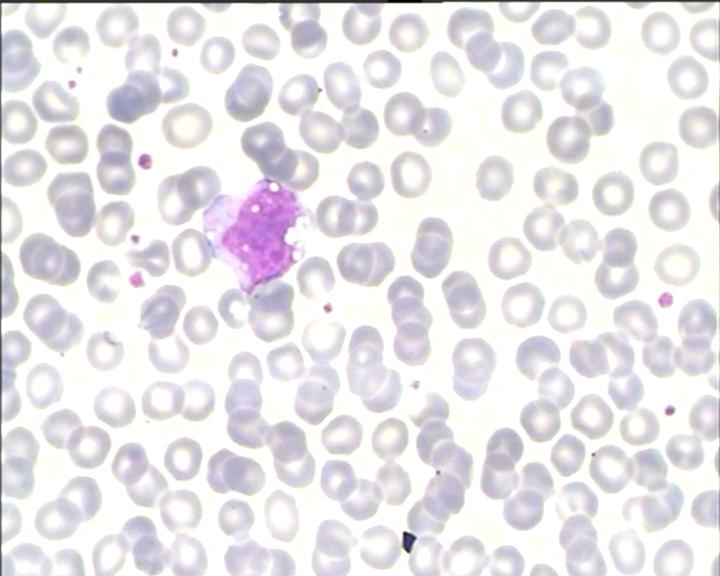mono: (199, 174, 315, 295)
